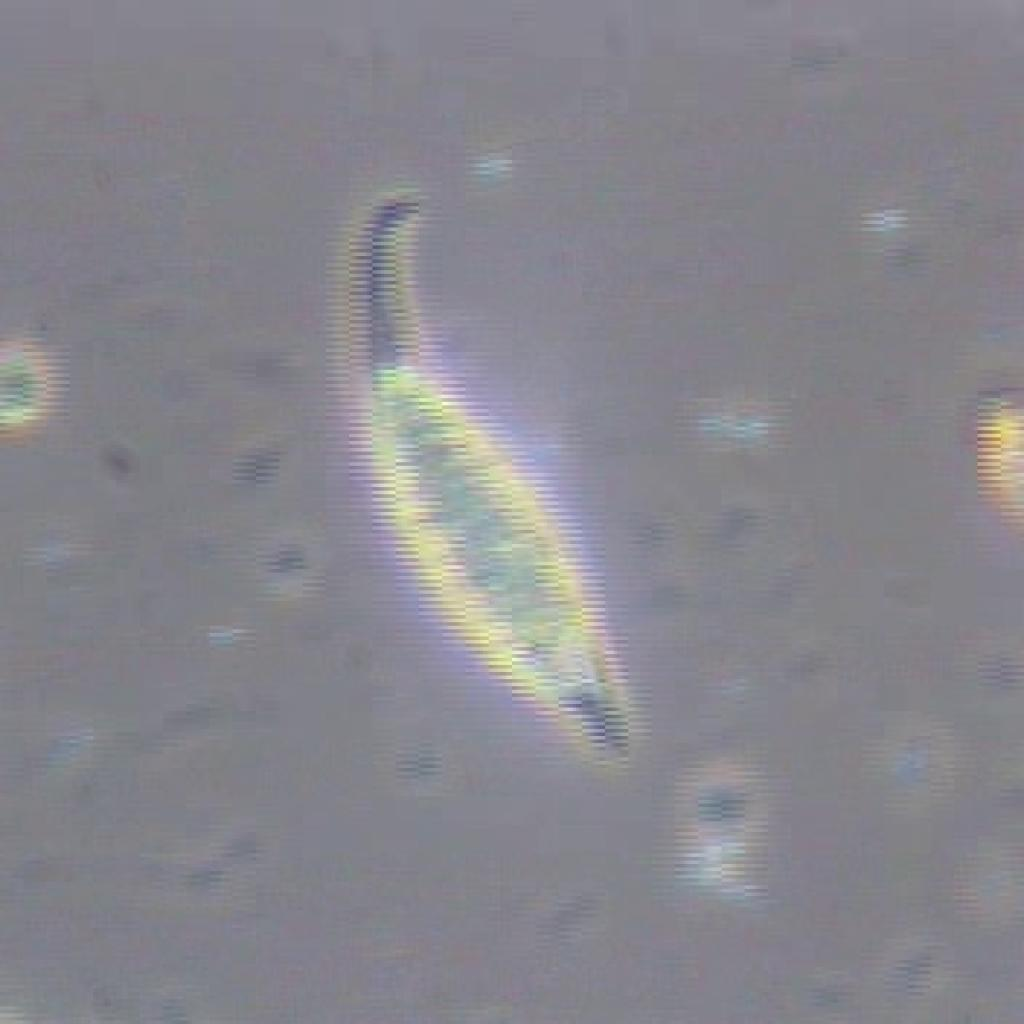Pristina: (305, 174, 640, 811)
